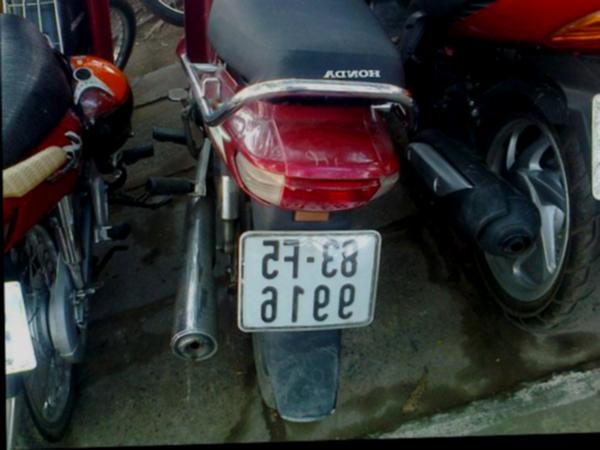License_Plate: (242, 232, 375, 331)
